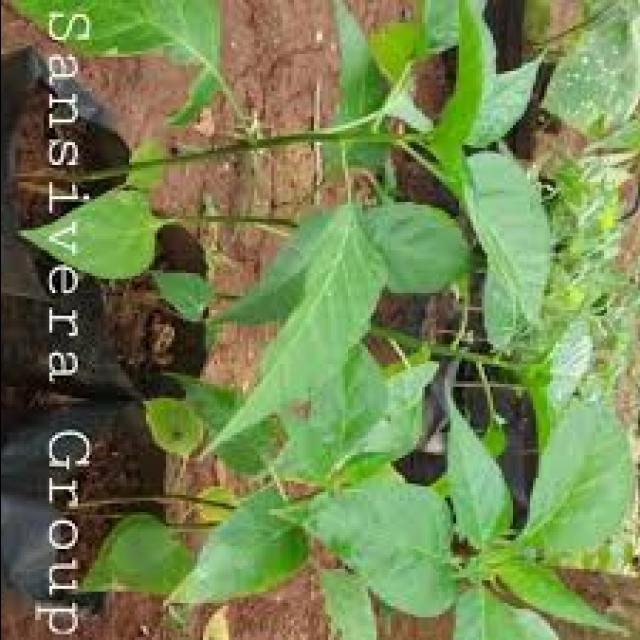sehat: (190, 207, 393, 461), (266, 462, 456, 616), (520, 386, 632, 584)
